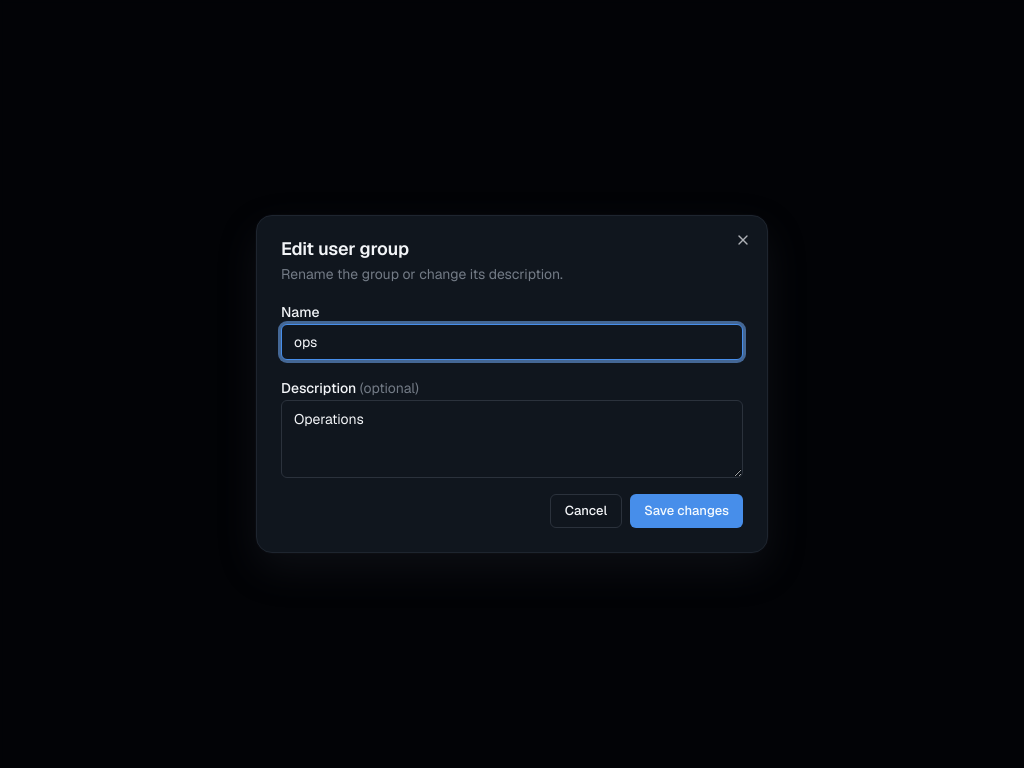
it: GroupFormModal › keeps the dialog open with the backend message when saving fails
The width and height of the screenshot is (1024, 768).
Expected: the field labelled "Name" holds "ops", 281,324 -> 743,360
Clear the text box labelled "Description (optional)" at (512, 439), box 281,400 -> 743,478
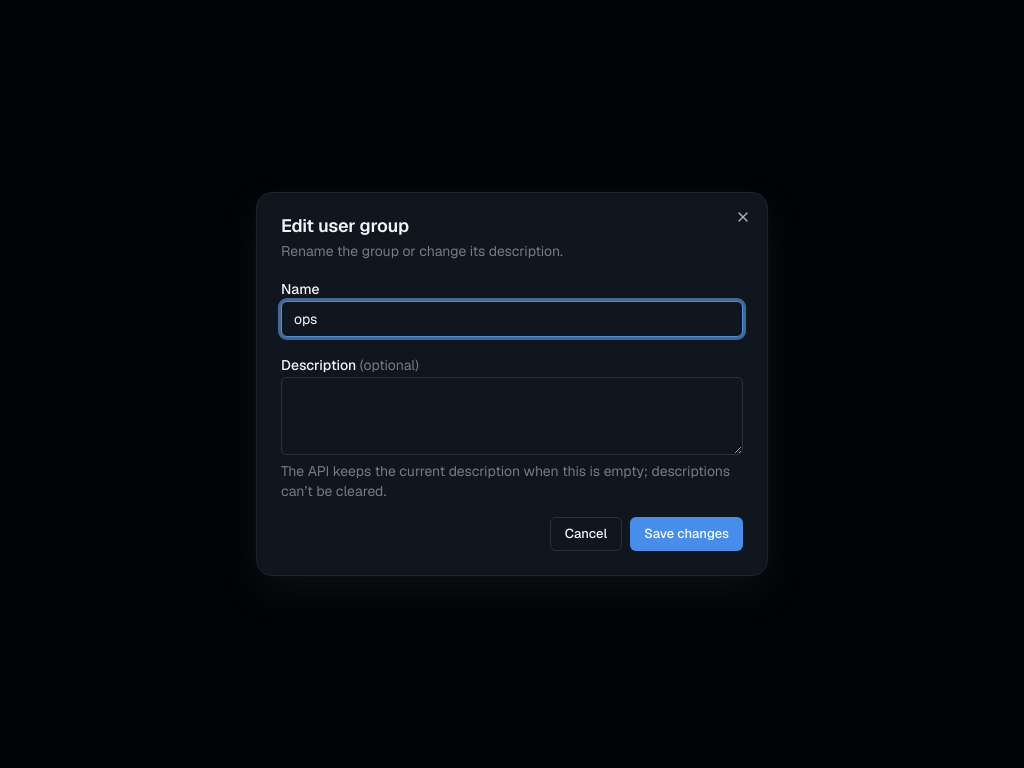
Now the text "descriptions can’t be cleared" is shown, box 281,462 -> 730,500
Click the button "Save changes" at (687, 534), box 630,517 -> 743,551
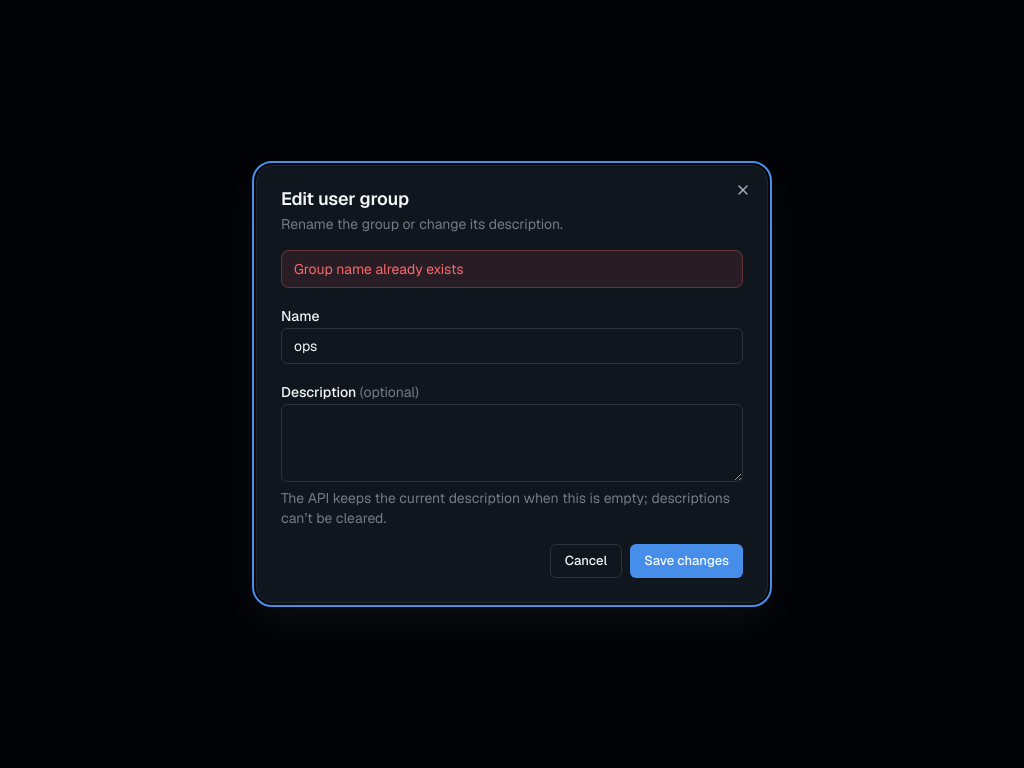
Now the message reads "Group name already exists", box 294,260 -> 464,278
